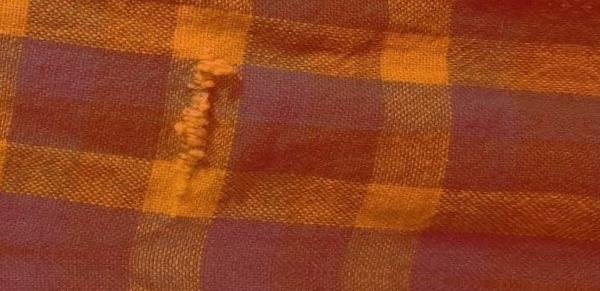knot: (175, 55, 241, 199)
